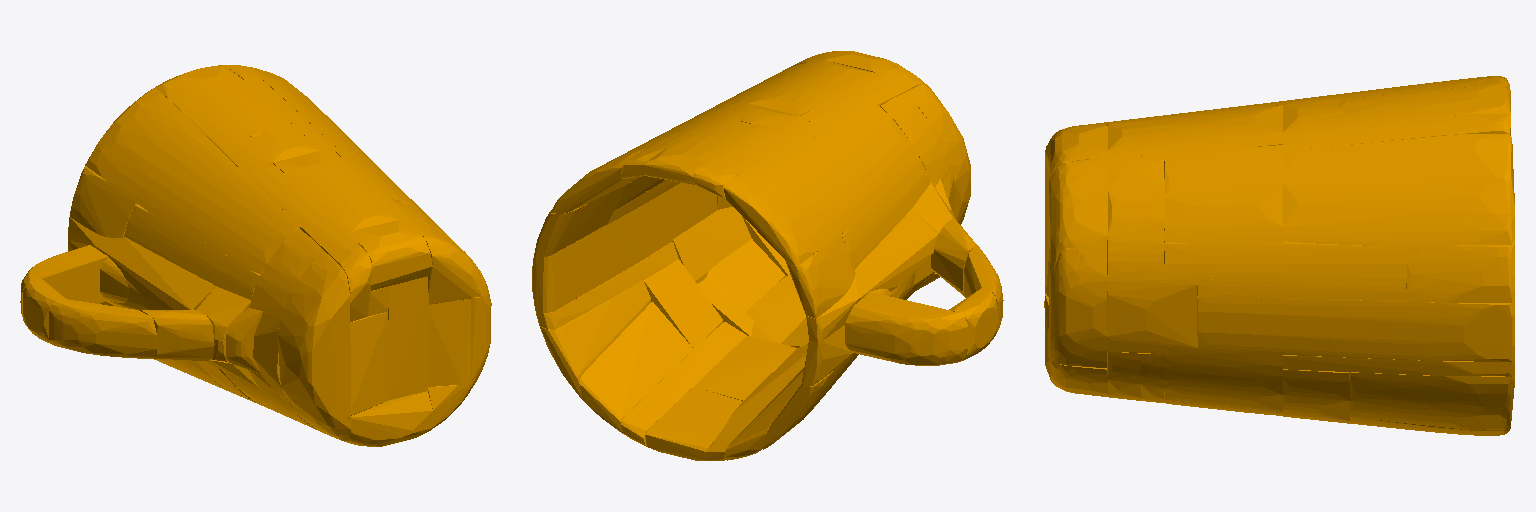
The robot description file, URDF, robot "cup-yellow":
<?xml version="1.0" ?>
<robot name="cup-yellow">
  <link name="baseLink">
    <contact>
      <lateral_friction value="1.0"/>
      <inertia_scaling value="3.0"/>
    </contact>
    <inertial>
      <origin rpy="0 0 0" xyz="0.000 0.000 0.000"/>
       <mass value=".1"/>
       <inertia ixx="1" ixy="0.0" ixz="0.0" iyy="1" iyz="0.0" izz="1"/>
    </inertial>
    <visual>
      <origin rpy="0 0 0" xyz="0 0 0"/>
      <geometry>
        <mesh filename="cup/cup-yellow_white_border.obj" scale="1.0 1.0 1.0"/>
      </geometry>
    </visual>
    <collision>
      <origin rpy="0 0 0" xyz="0 0 0"/>
      <geometry>
        <mesh filename="../collision/cup/cup-yellow_white_border.obj" scale="1.0 1.0 1.0"/>
      </geometry>
    </collision>
  </link>
</robot>
        

--- Render facts (derived) ---
3 views of the same robot in one strip: view 1: azimuth 30°, elevation 25°; view 2: azimuth 150°, elevation 25°; view 3: azimuth 270°, elevation 25° (orthographic).
Model cup-yellow with 1 links and 0 joints (none), rooted at baseLink, posed every joint at zero.
Visible links, largest first — view 1: baseLink; view 2: baseLink; view 3: baseLink.
Boxes of the visible links, <box> form: baseLink: <box>20,65,491,446</box>; baseLink: <box>532,51,1003,460</box>; baseLink: <box>1044,76,1514,435</box>.
Size in the robot's own frame: 0.1061 by 0.1024 by 0.0773 metres.
Meshes: 1 distinct files referenced, 1 mesh visuals loaded (1 OBJ).